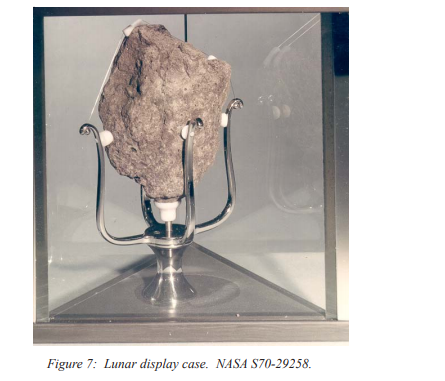Basalt: (103, 19, 220, 203)
